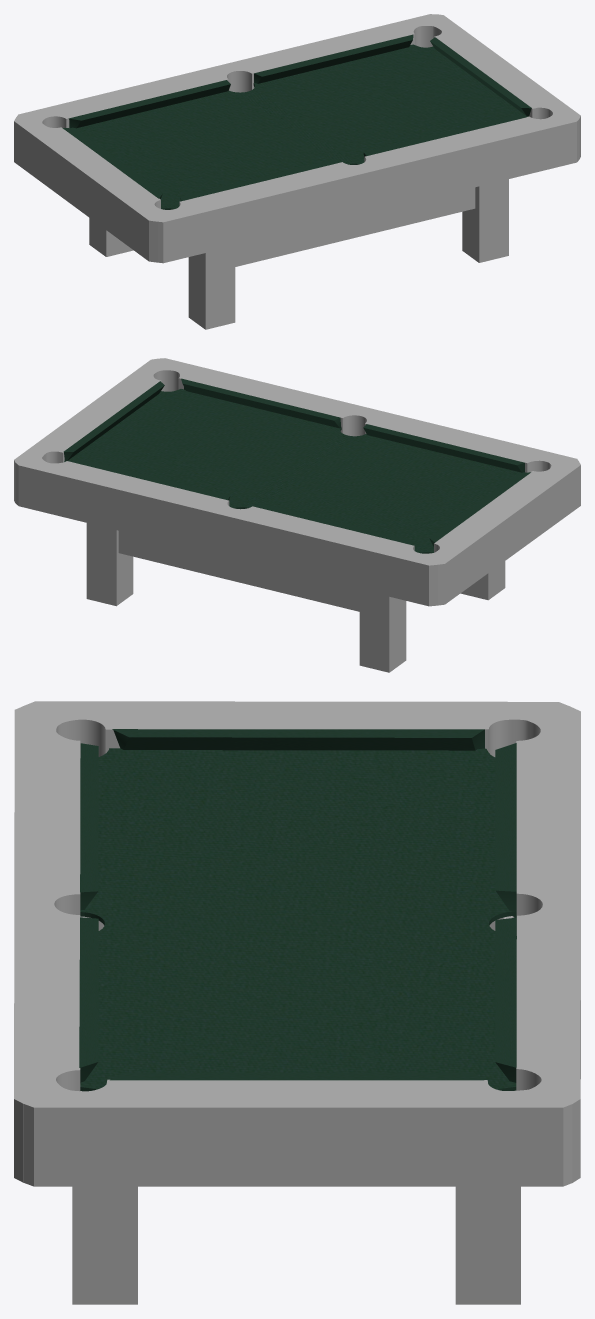
Rendered from table.obj.
3 views of the same model, one above another, from view 1: azimuth 30°, elevation 25°; view 2: azimuth 150°, elevation 25°; view 3: azimuth 270°, elevation 25° (orthographic). The views are drawn at different scales.
Parts seen in each view (by area): view 1: pooltable.003, pooltable.006, pooltable.002; view 2: pooltable.003, pooltable.006, pooltable.002; view 3: pooltable.006, pooltable.003, pooltable.002.
Part boxes in pixels (<box>): pooltable.003: <box>14,14,580,263</box>; pooltable.006: <box>62,34,531,209</box>; pooltable.002: <box>89,179,508,329</box>; pooltable.003: <box>14,358,580,606</box>; pooltable.006: <box>63,378,530,553</box>; pooltable.002: <box>86,523,505,672</box>; pooltable.006: <box>79,729,516,1091</box>; pooltable.003: <box>14,701,580,1186</box>; pooltable.002: <box>72,916,520,1304</box>.
Size of the model in its own units: 14.82 by 4.35 by 8.74.
